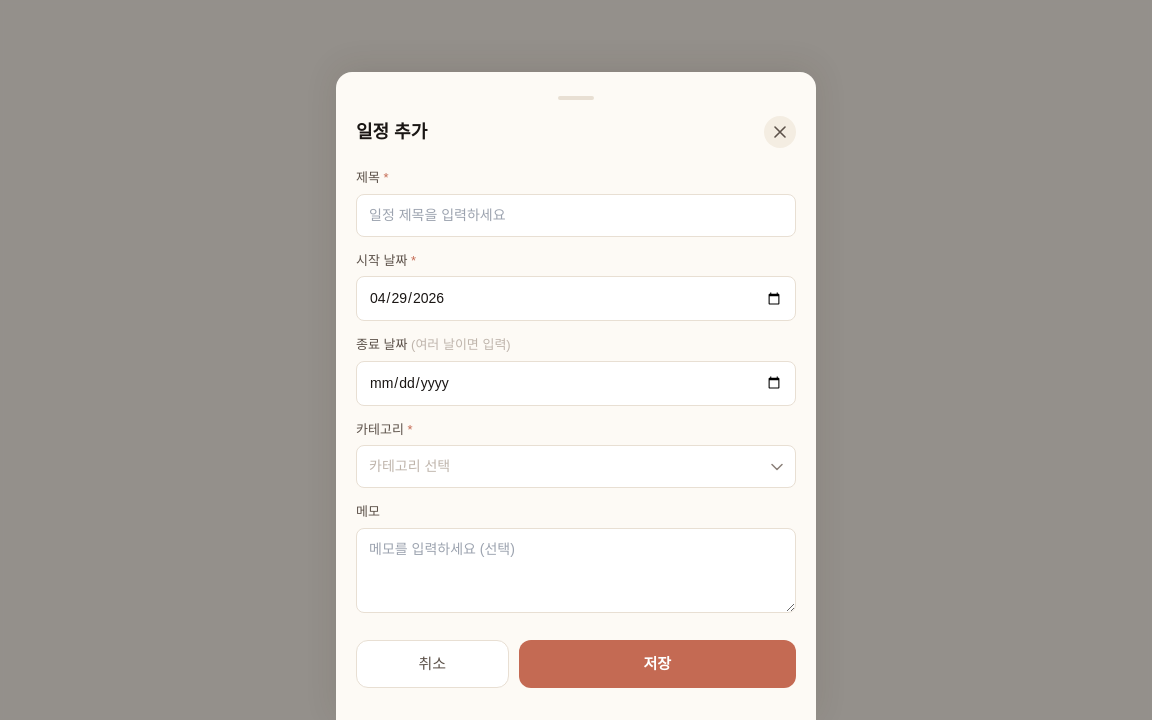
EventForm › 검증: 필수 필드 미입력 시 에러 › 날짜 없이 제출 시 날짜 에러가 표시된다
Type "테스트" into the field labelled "제목 *" at {"x": 576, "y": 215}, box [356,194,796,236]
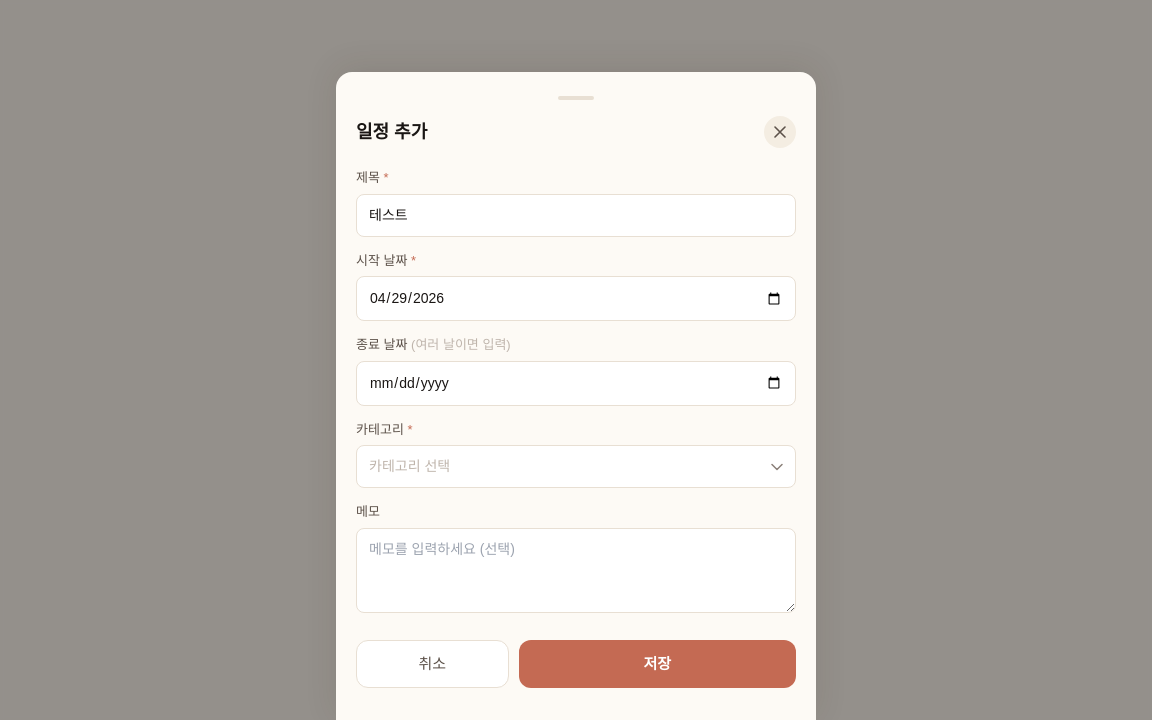
시작 날짜 필드 비우기 (종료 날짜는 선택이므로 별도 label 로 구분)
Clear the date field labelled "시작 날짜 *" at {"x": 576, "y": 298}, box [356,276,796,321]
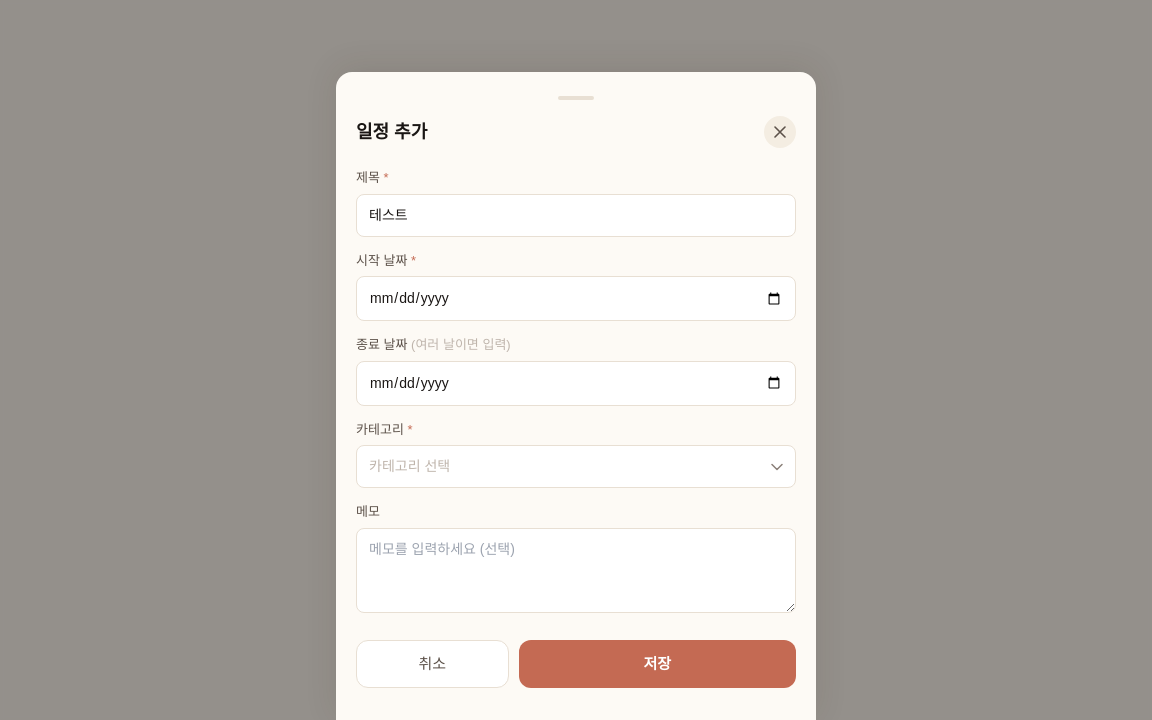
Click the button "저장" at {"x": 657, "y": 664}, box [519,640,796,688]
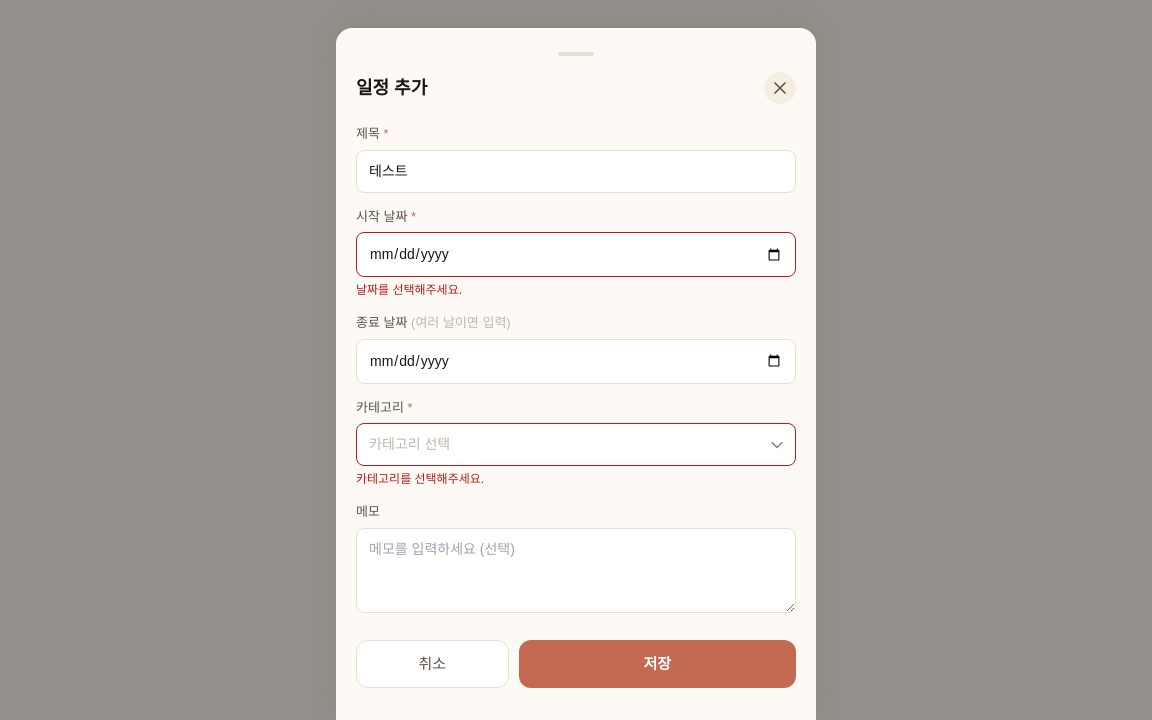
Now the text "날짜를 선택해주세요." is shown, box [356,283,462,297]
